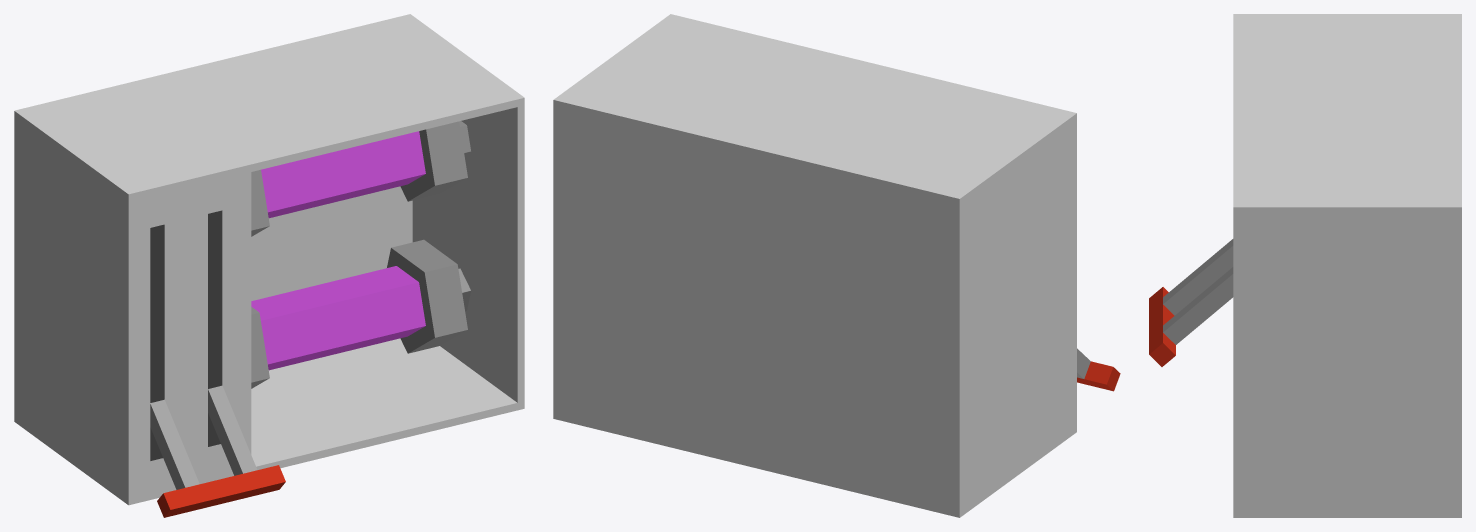
File: FuseBox.fbx
The picture shows the model from 3 angles, left to right: view 1: azimuth 30°, elevation 25°; view 2: azimuth 150°, elevation 25°; view 3: azimuth 270°, elevation 25°; orthographic projection. The views are drawn at different scales.
Visible parts, largest first — view 1: FuseBox, Fuse_to_insert, Fuse, Levler; view 2: FuseBox, Levler; view 3: FuseBox, Levler.
Part boxes in pixels (bbox=[...]): FuseBox: bbox=[14, 14, 524, 505]; Fuse_to_insert: bbox=[251, 239, 467, 388]; Fuse: bbox=[251, 121, 467, 236]; Levler: bbox=[150, 385, 285, 517]; FuseBox: bbox=[553, 14, 1076, 517]; Levler: bbox=[1077, 348, 1120, 391]; FuseBox: bbox=[1233, 14, 1461, 517]; Levler: bbox=[1149, 239, 1233, 366].
Size of the model in its own units: 60.04 by 45 by 41.06.
